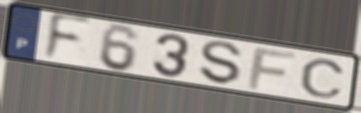3: (149, 32, 191, 80)
6: (96, 22, 142, 73)
C: (298, 57, 348, 99)
F: (40, 11, 94, 63), (245, 46, 299, 91)
S: (199, 39, 245, 87)
